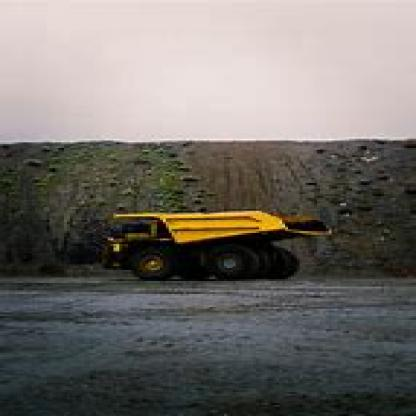dump_truck: (93, 200, 332, 288)
